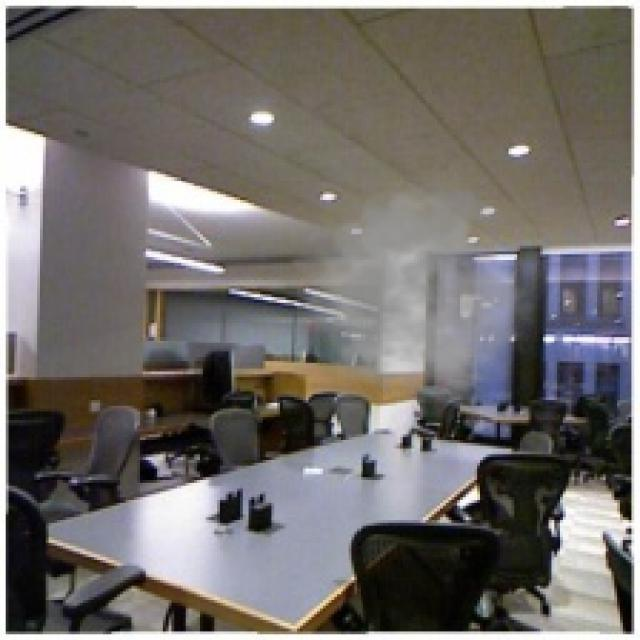Smoke: (280, 168, 537, 402)
